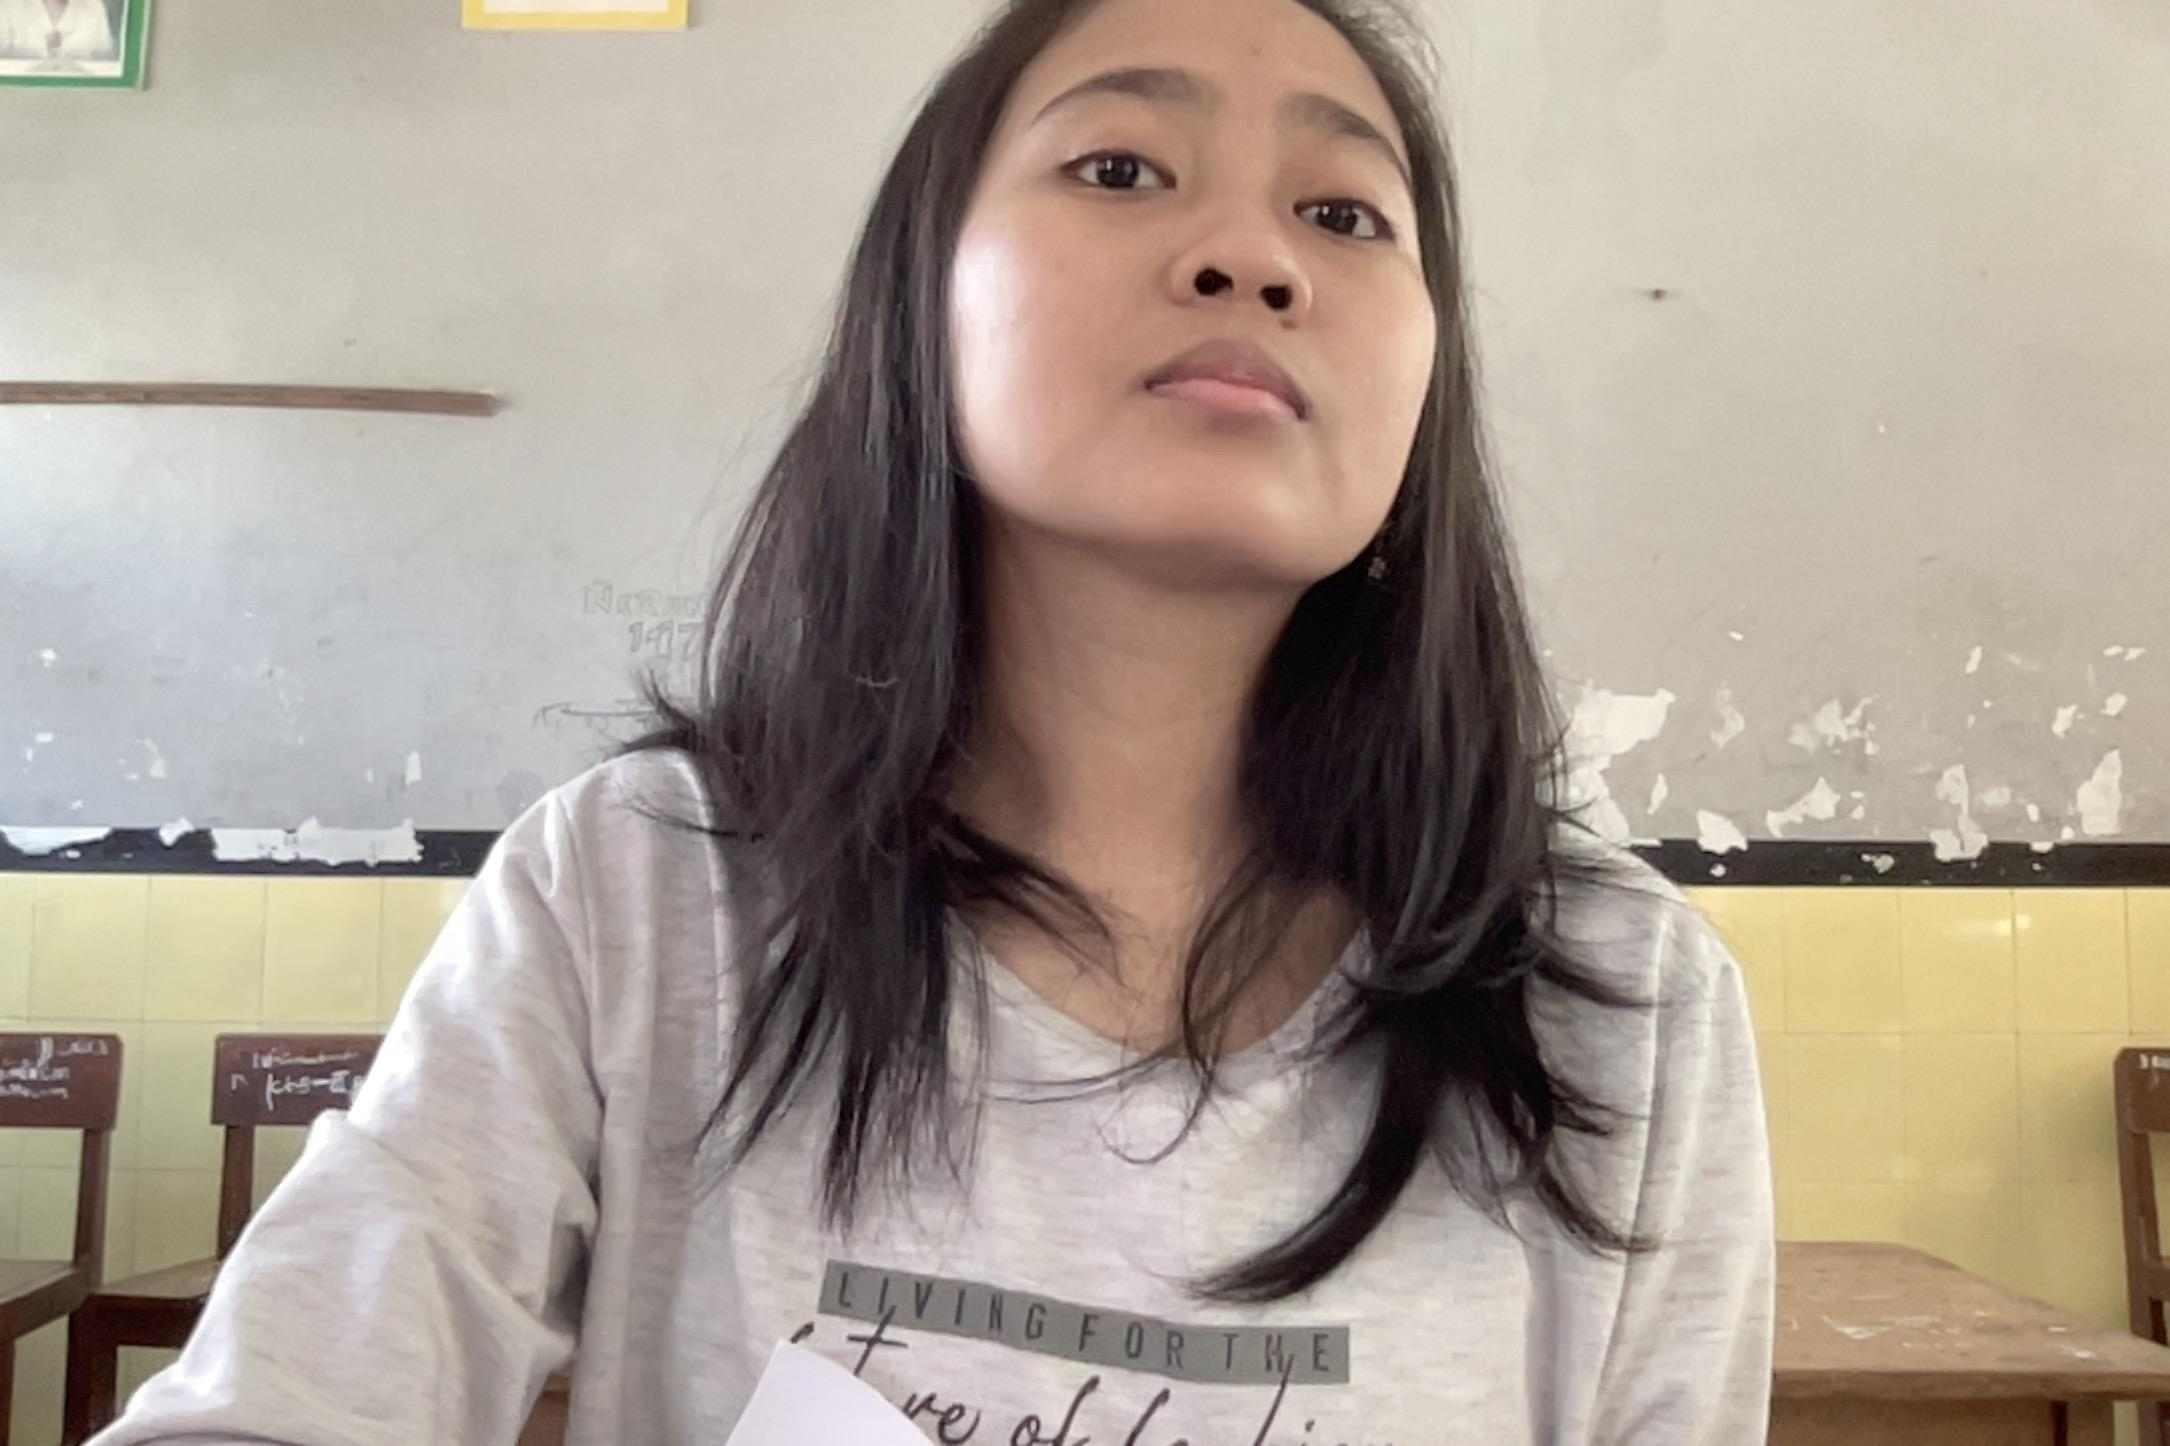cheating: (153, 0, 1817, 1446)
